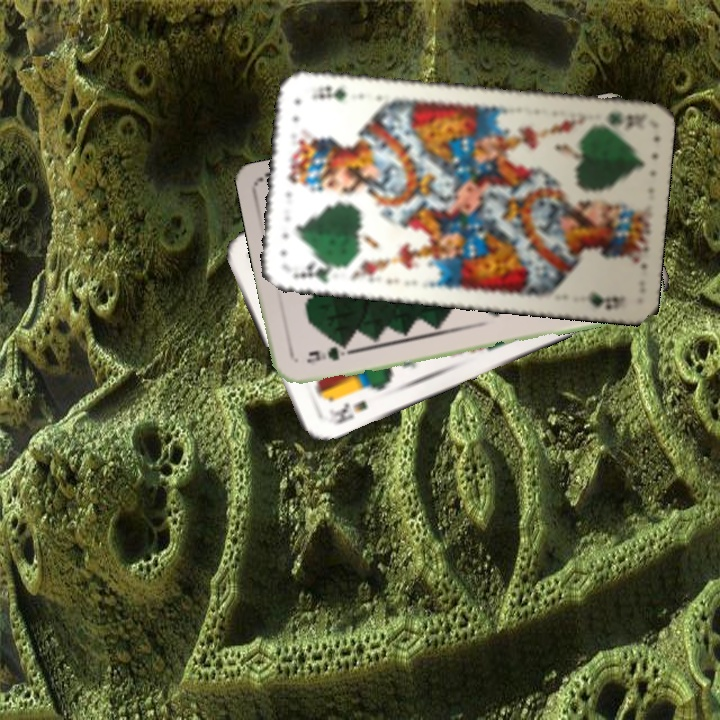EK: (322, 396, 370, 428)
G9: (303, 340, 354, 366)
GK: (289, 259, 344, 286), (602, 106, 649, 131)
